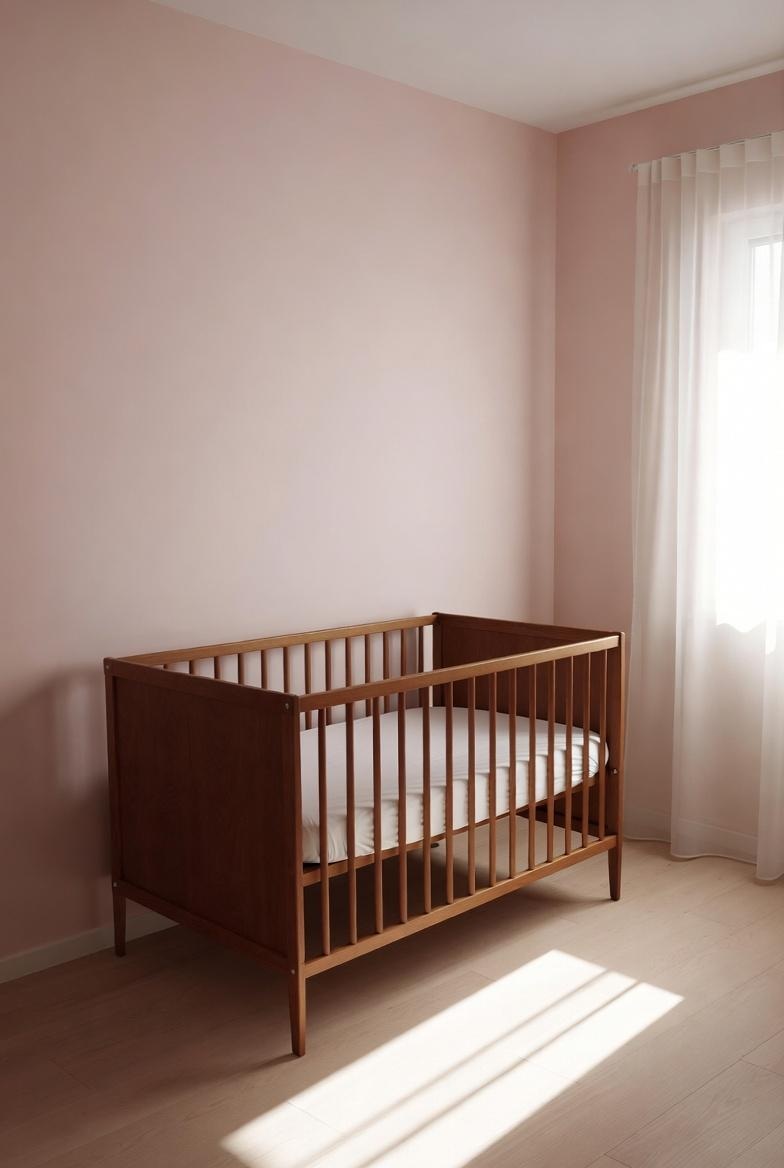crib: (92, 605, 633, 1077)
